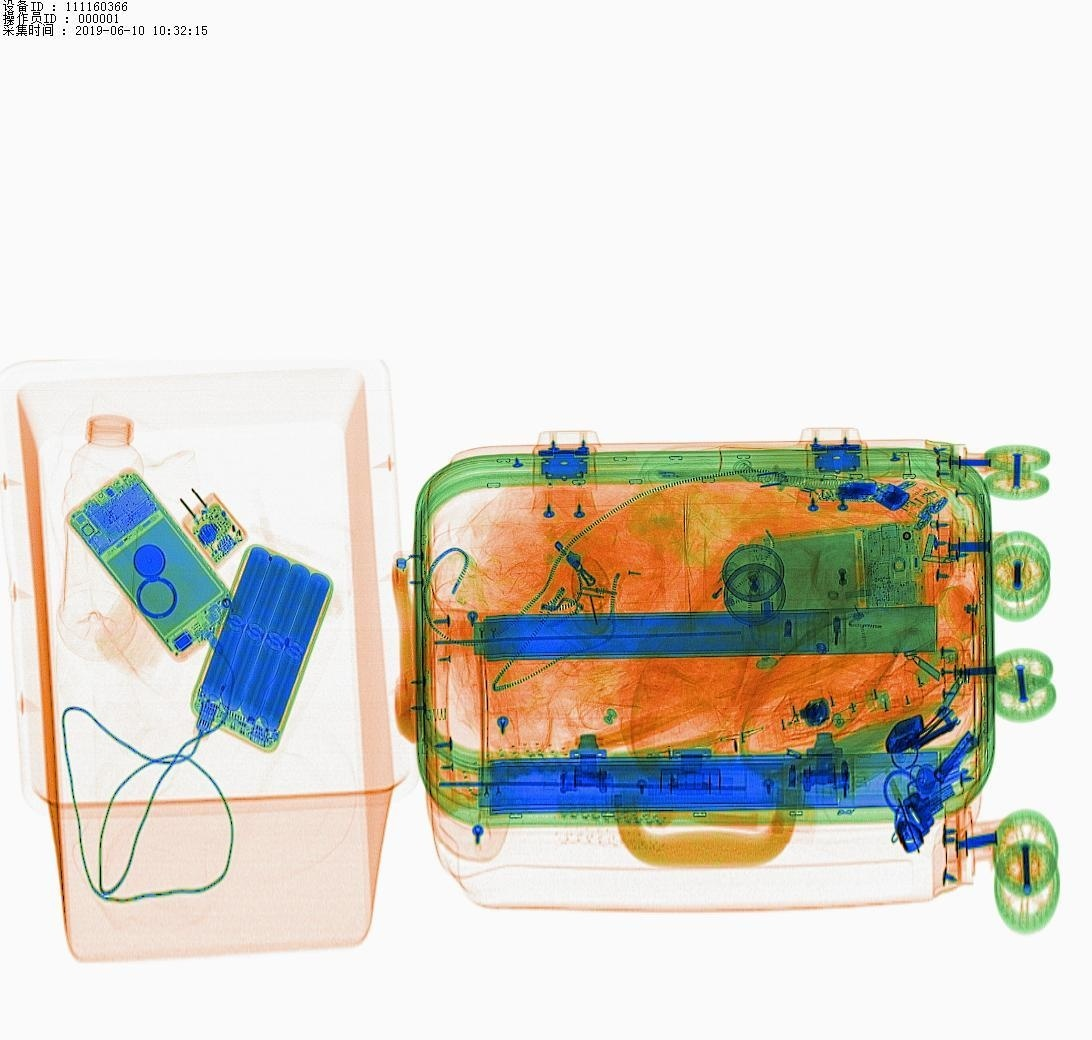NonmetallicFire: (676, 550, 747, 646)
